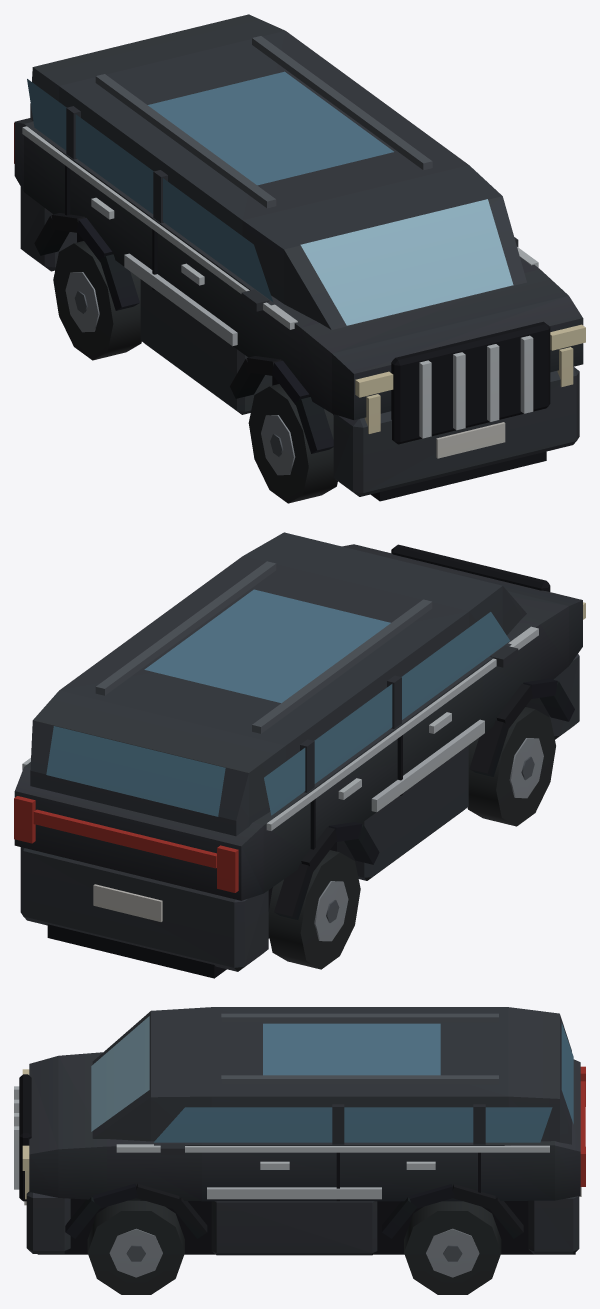
The model's file is car_suv.glb.
3 views of the same model, one above another, from view 1: azimuth 30°, elevation 25°; view 2: azimuth 150°, elevation 25°; view 3: azimuth 270°, elevation 25° (orthographic). The views are drawn at different scales.
Parts seen in each view (by area): view 1: suv_blackcar_01; view 2: suv_blackcar_01; view 3: suv_blackcar_01.
Boxes of the visible parts, x1=… form: suv_blackcar_01: x1=14, y1=14, x2=585, y2=503; suv_blackcar_01: x1=14, y1=532, x2=585, y2=978; suv_blackcar_01: x1=14, y1=1007, x2=585, y2=1294.
Size of the model in its own units: 1.33 by 1.19 by 3.1.
